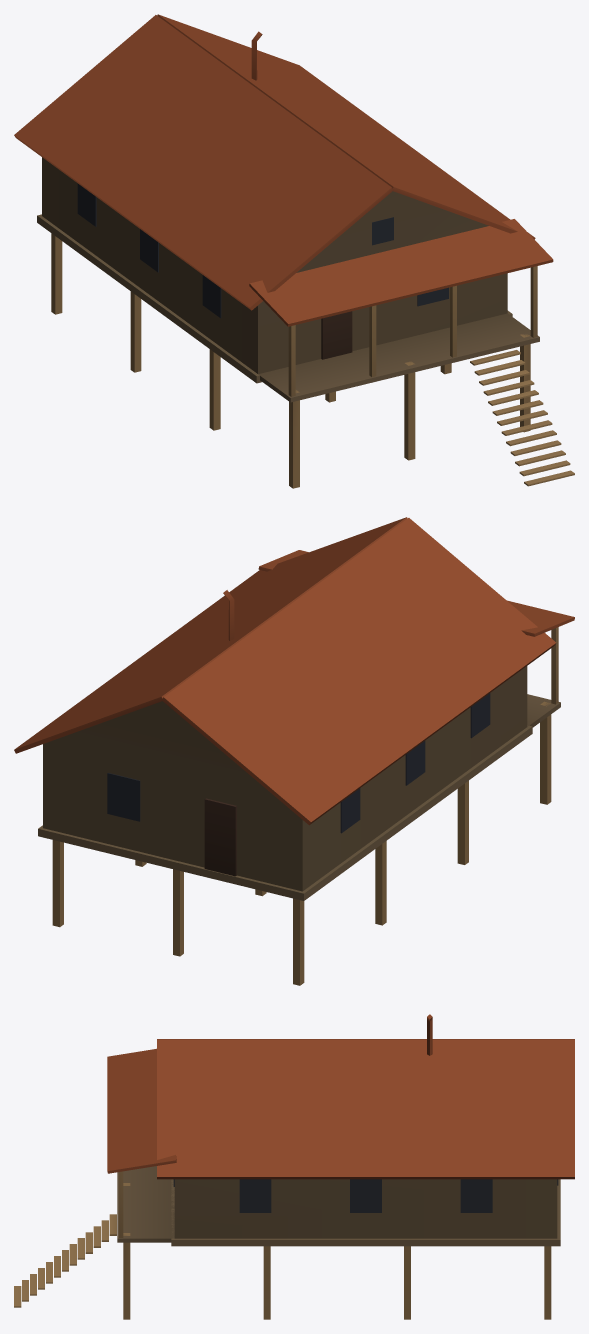
Rendered from shell_bayou_shotgun_lod1.glb.
3 views of the same model, one above another, from view 1: azimuth 30°, elevation 25°; view 2: azimuth 150°, elevation 25°; view 3: azimuth 270°, elevation 25° (orthographic). The views are drawn at different scales.
Parts seen in each view (by area): view 1: shell_bayou_shotgun_lod1; view 2: shell_bayou_shotgun_lod1; view 3: shell_bayou_shotgun_lod1.
Boxes of the visible parts, x1=… form: shell_bayou_shotgun_lod1: x1=14, y1=14, x2=574, y2=488; shell_bayou_shotgun_lod1: x1=14, y1=517, x2=574, y2=985; shell_bayou_shotgun_lod1: x1=14, y1=1014, x2=574, y2=1319.
Bounding box in the file's own units: 9.16 × 9.09 × 17.59.
